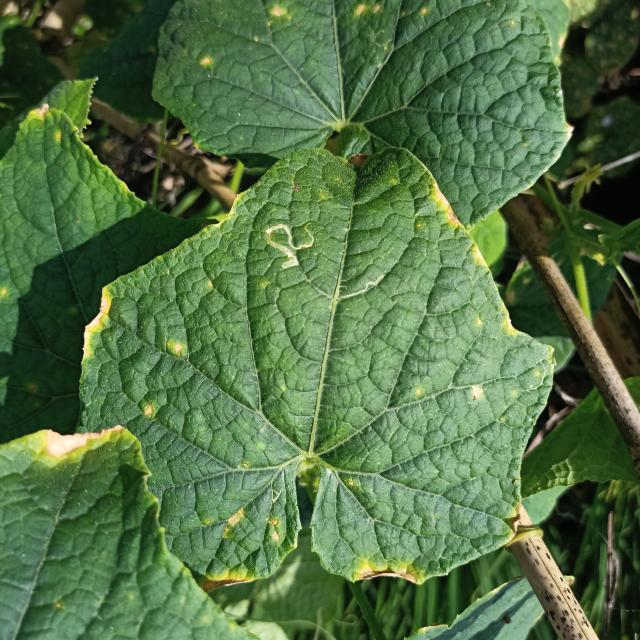disease_cucumber: (200, 504, 287, 596), (471, 306, 522, 342), (167, 337, 186, 357), (467, 382, 486, 402), (143, 398, 157, 418)
